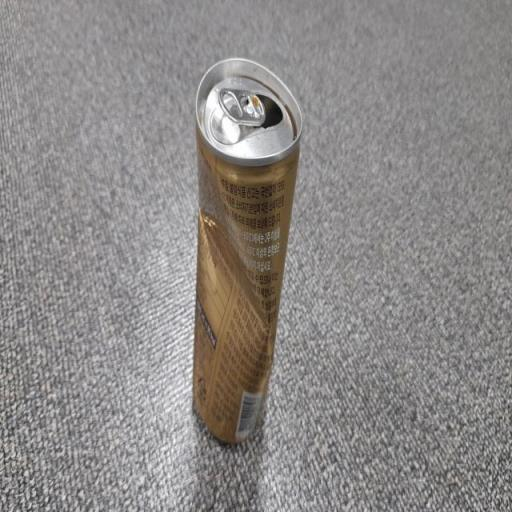metal: (173, 43, 314, 471)
